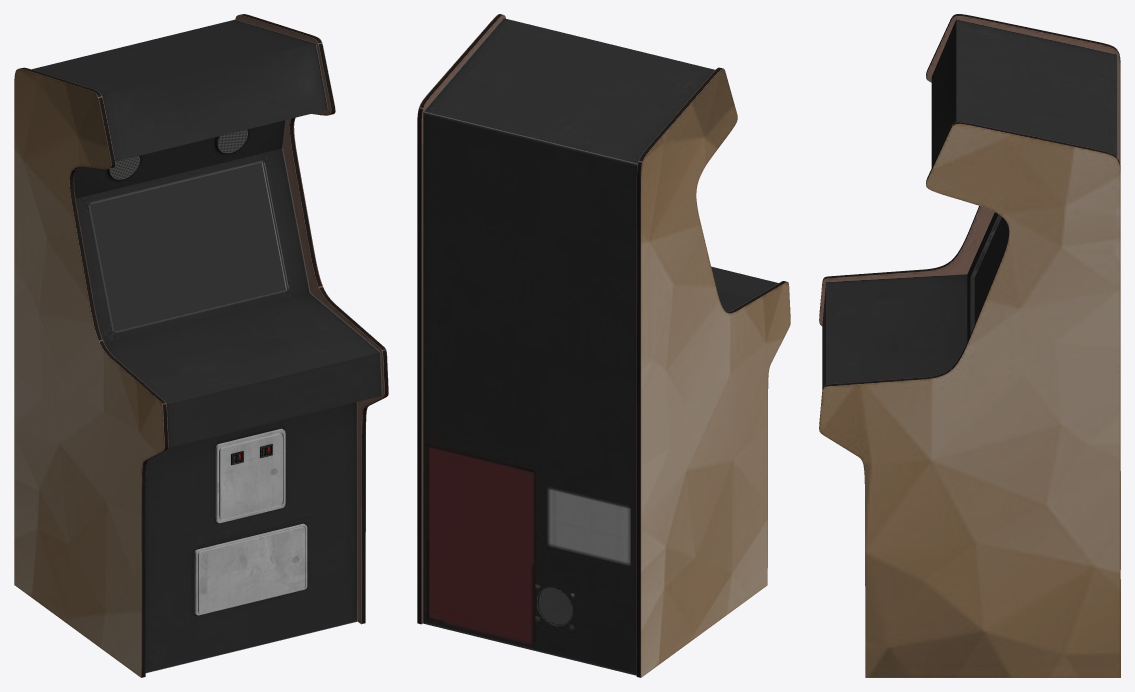
File: mdl_wollo_arcade_machine.gltf
The picture shows the model from 3 angles, left to right: view 1: azimuth 30°, elevation 25°; view 2: azimuth 150°, elevation 25°; view 3: azimuth 270°, elevation 25°; orthographic projection.
Visible parts, largest first — view 1: Body, SidePanels, Screen, MaintenanceDoor, CoinPlate, Plane.001; view 2: Body, SidePanels, LowerBody; view 3: SidePanels, Body, Screen.
Part boxes in pixels (x1,y1,x2,y2): Body: [32, 19, 382, 673]; SidePanels: [14, 14, 388, 677]; Screen: [90, 162, 287, 331]; MaintenanceDoor: [194, 523, 307, 615]; CoinPlate: [215, 428, 285, 523]; Plane.001: [107, 129, 248, 180]; Body: [422, 18, 778, 675]; SidePanels: [417, 14, 790, 677]; LowerBody: [539, 588, 571, 624]; SidePanels: [819, 14, 1120, 677]; Body: [822, 19, 1118, 389]; Screen: [971, 215, 1009, 332].
Size of the model in its own units: 76.98 by 181 by 89.16.
Materials: 7 (7 with a texture image).
